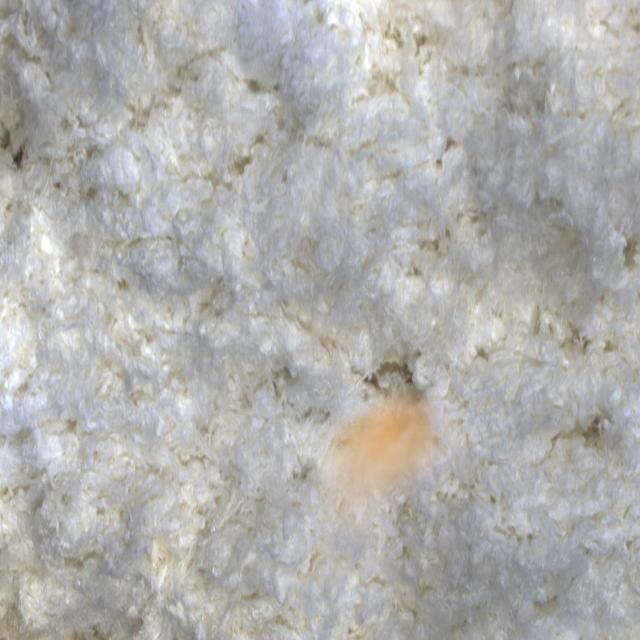dust: (301, 382, 470, 587)
